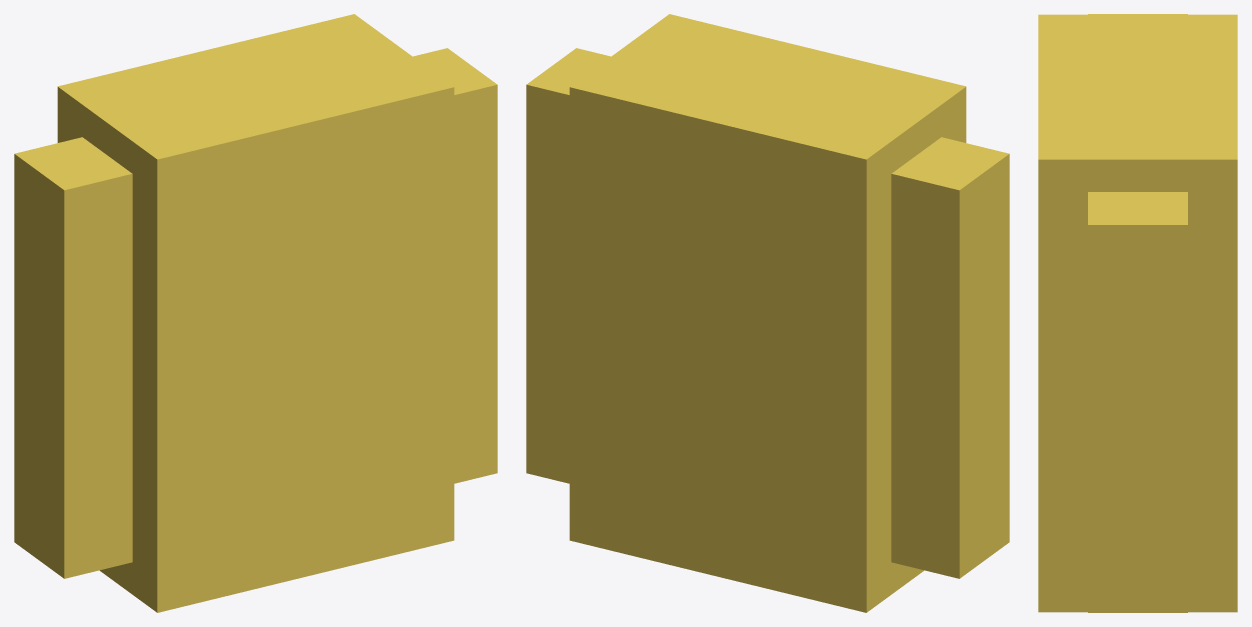
The model's file is rain_shell.glb.
3 renders of one model, left to right at view 1: azimuth 30°, elevation 25°; view 2: azimuth 150°, elevation 25°; view 3: azimuth 270°, elevation 25°, orthographic.
Parts seen in each view (by area): view 1: garment, sleeve_l, sleeve_r; view 2: garment, sleeve_l, sleeve_r; view 3: garment, sleeve_r.
Boxes of the visible parts, box(x1,y1,x2,y2) form: garment: box(57, 14, 454, 612); sleeve_l: box(14, 137, 132, 578); sleeve_r: box(413, 48, 497, 483); garment: box(569, 14, 966, 612); sleeve_l: box(891, 137, 1009, 578); sleeve_r: box(526, 48, 610, 483); garment: box(1038, 14, 1237, 612); sleeve_r: box(1088, 192, 1187, 612).
Size of the model in its own units: 0.7001 by 0.7002 by 0.2798.
